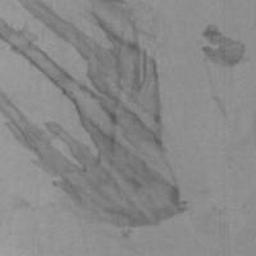Water spot: (0, 0, 189, 230), (191, 24, 247, 73)
